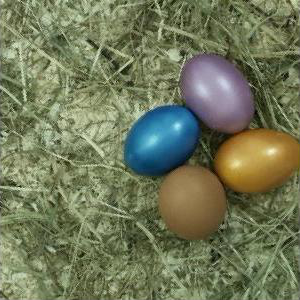egg: (182, 55, 255, 134), (214, 128, 300, 194), (124, 105, 200, 176), (158, 165, 227, 239)
